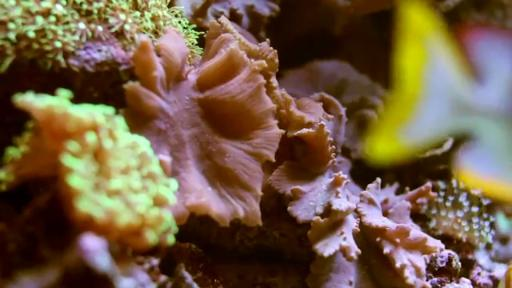Fish: (363, 0, 511, 203), (498, 265, 511, 287)
